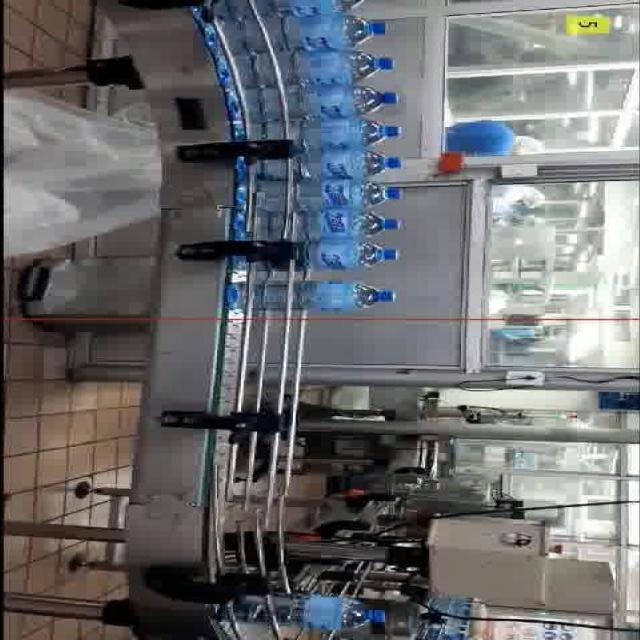bottle: (215, 11, 388, 51), (214, 592, 387, 631), (231, 47, 396, 86), (234, 84, 402, 120), (250, 149, 400, 185), (241, 115, 403, 148), (250, 177, 402, 211), (248, 207, 404, 239), (253, 278, 397, 312), (294, 237, 400, 272)
